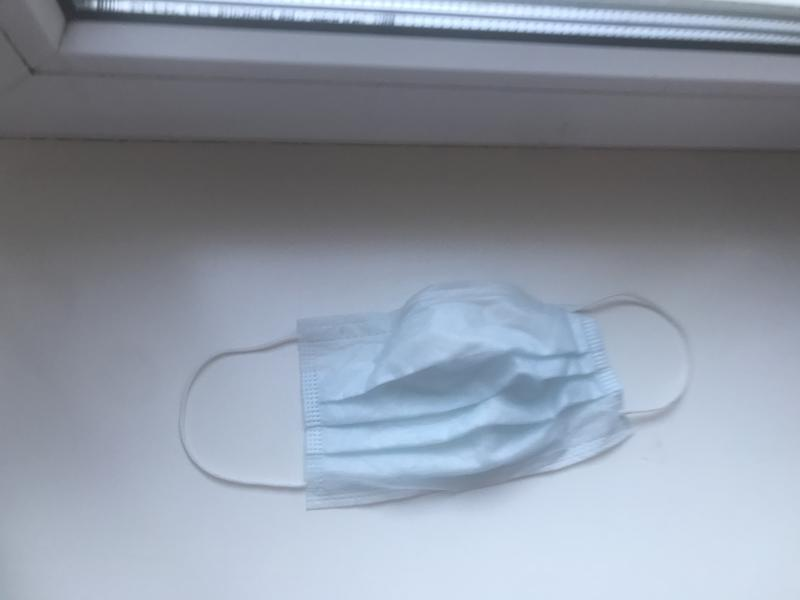medical_mask: (178, 289, 693, 505)
